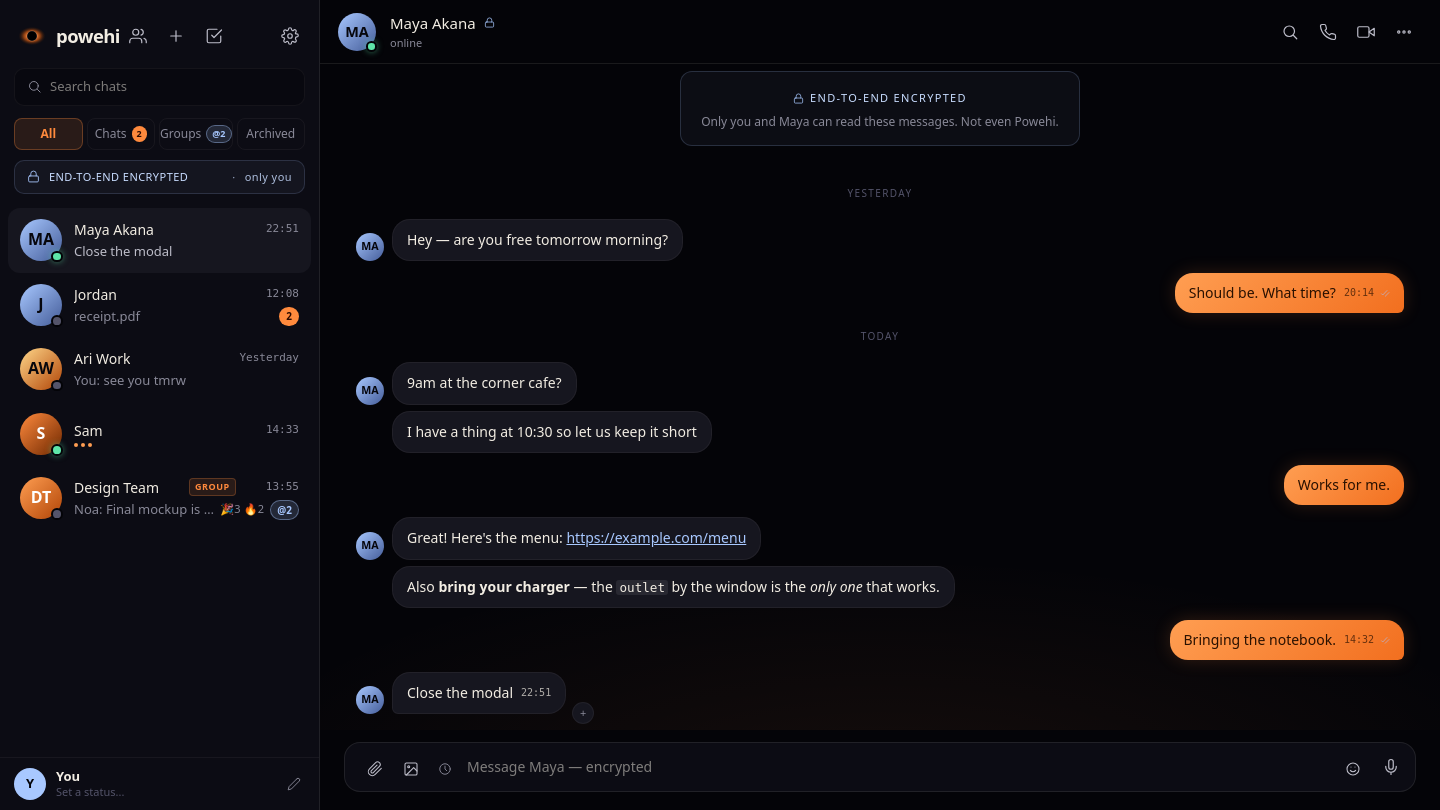
Scenario: ChatLayout — message forwarding › close button dismisses the forward modal
(page scrolled)
Hover over the element with test id "message-bubble" showing "MA Close the modal 22:51 +" at [475, 698], box [356,672,594,724]
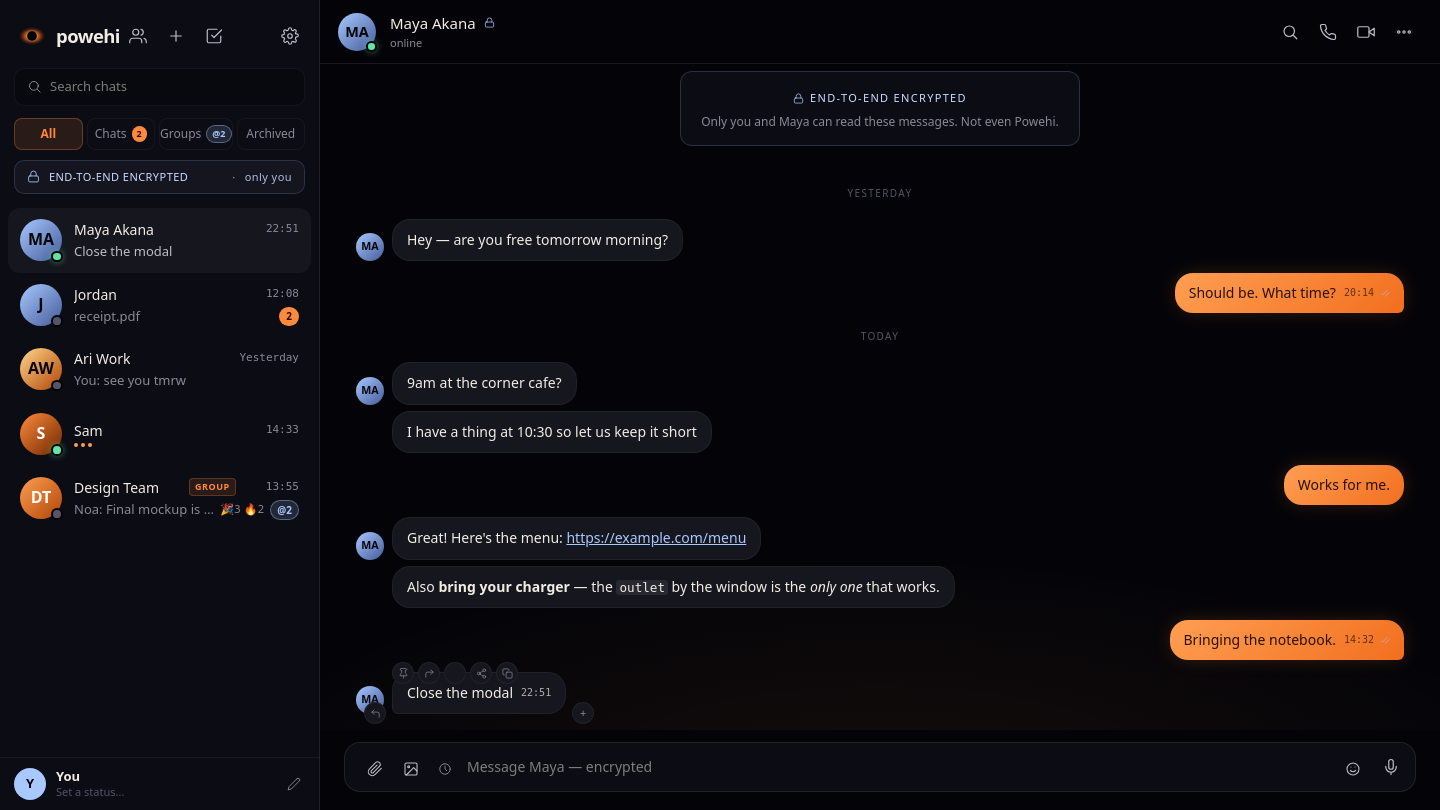
Click the button with test id "forward-button". click: [429, 673]
box: [418,662,440,684]
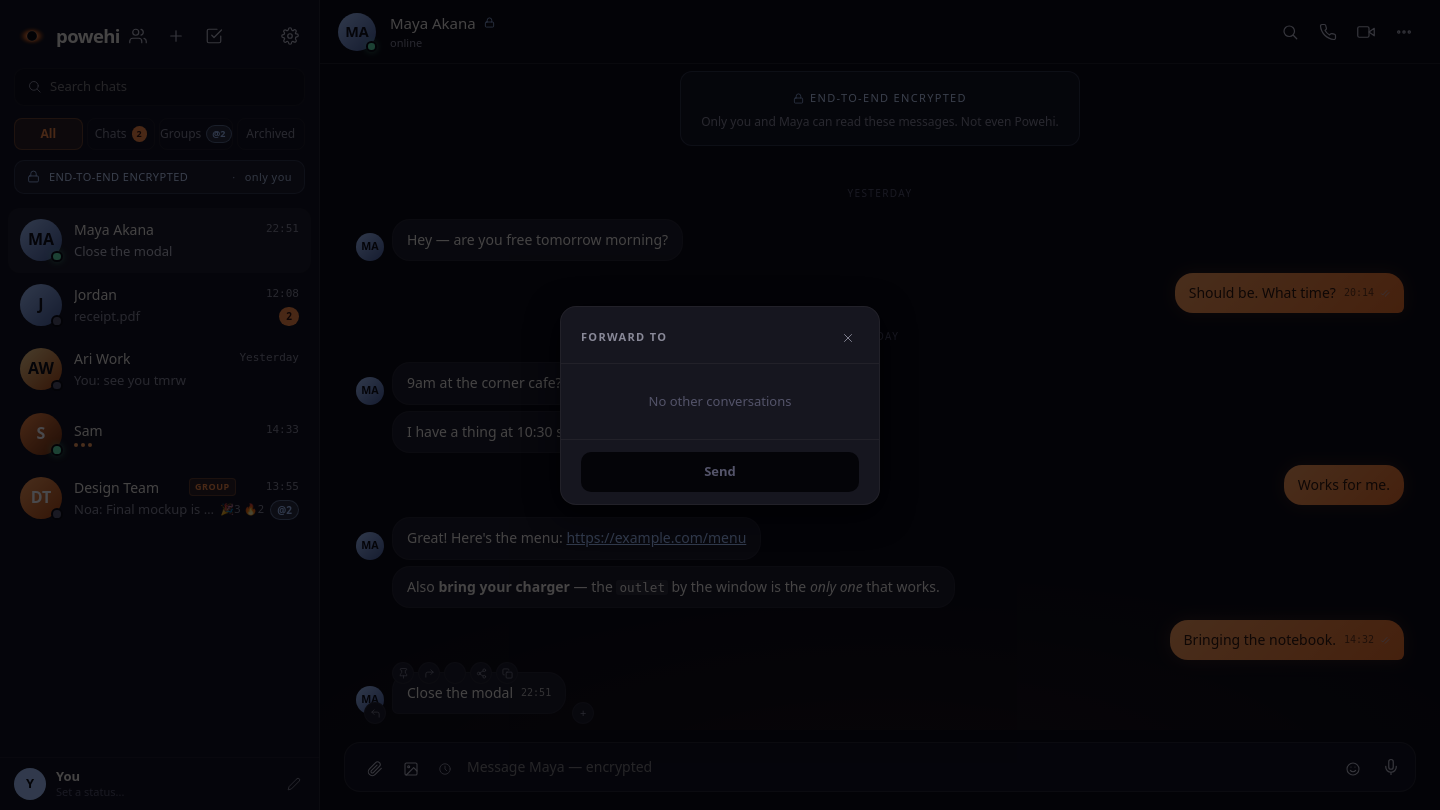
expect the element with test id "forward-modal" is shown: met, box [560,306,880,504]
Click the button with test id "forward-modal-close". click: [848, 338]
box: [837,326,859,348]
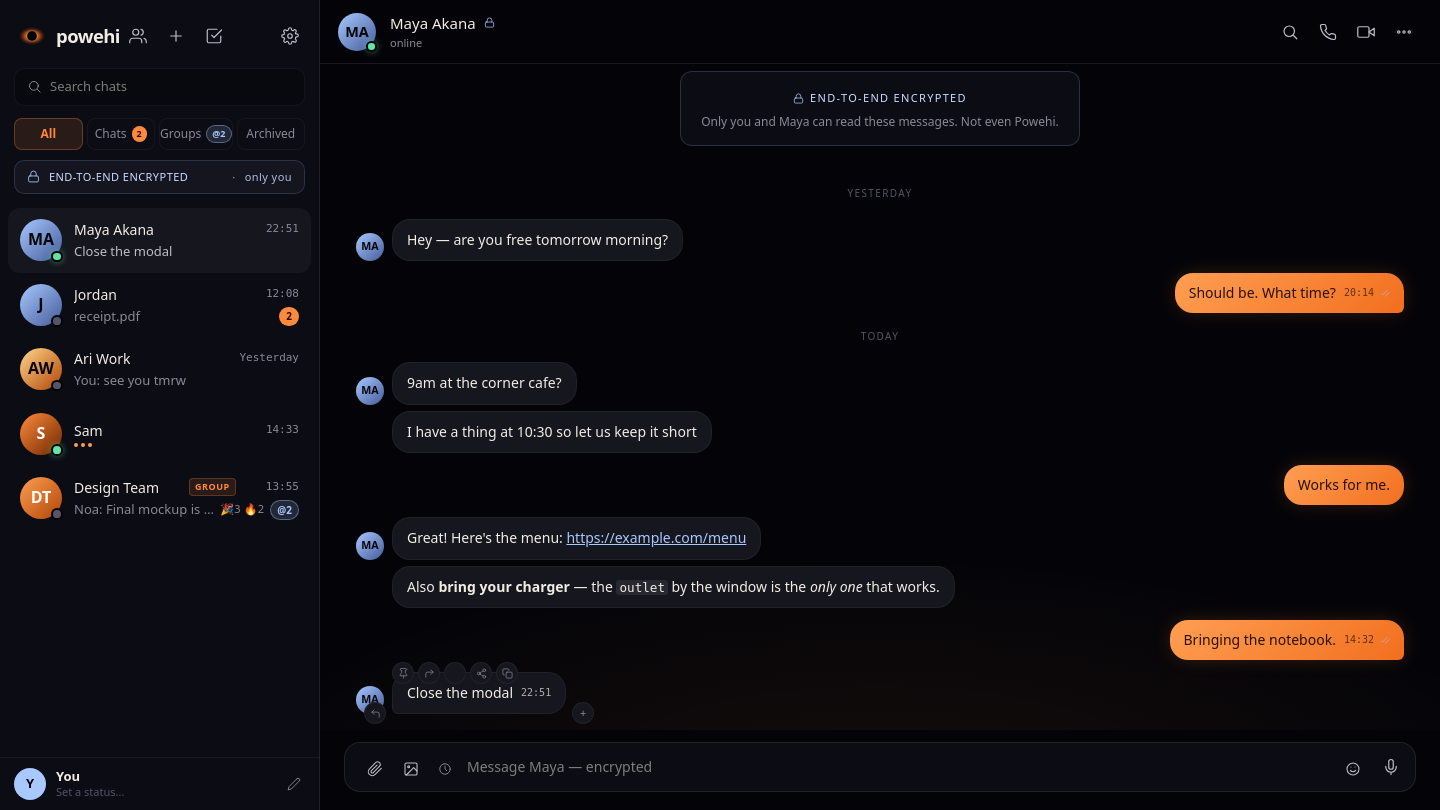
expect the element with test id "forward-modal" is gone: met
